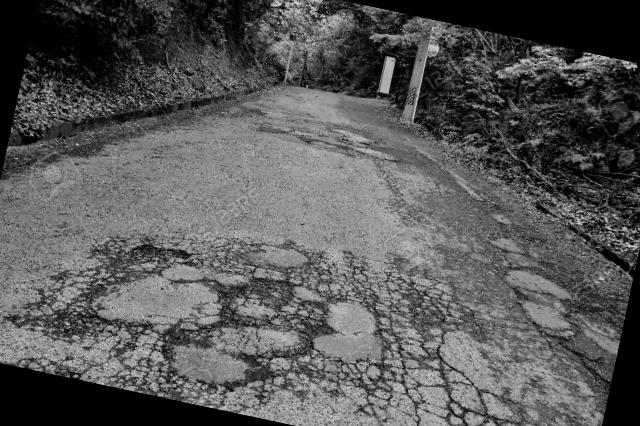Pothole: (60, 193, 462, 426), (114, 224, 228, 308)
